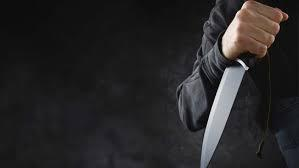Knife: (178, 0, 299, 168), (200, 59, 249, 168), (226, 0, 289, 60)
